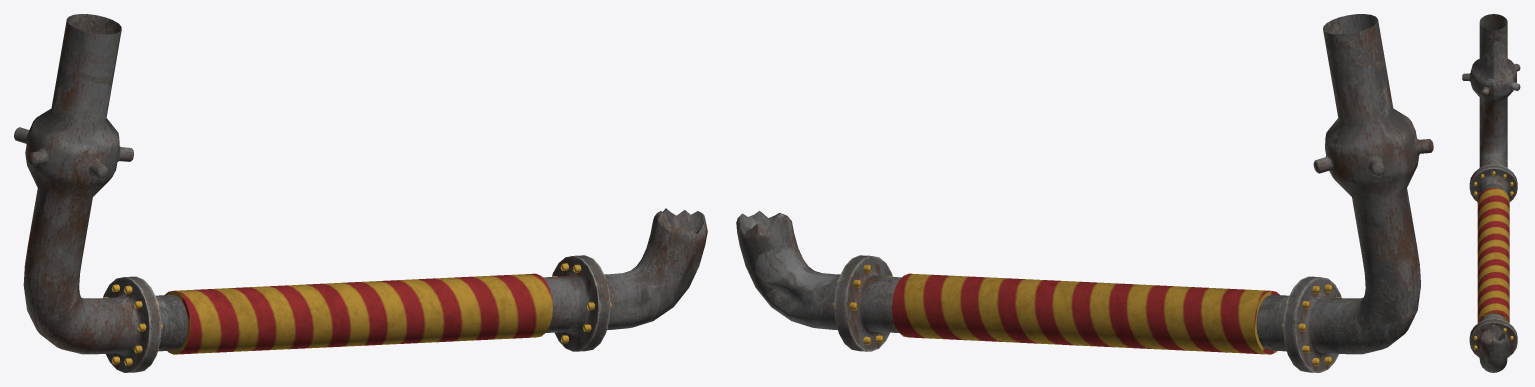
File: CAP_Grapple_02.fbx
3 renders of one model, left to right at view 1: azimuth 30°, elevation 25°; view 2: azimuth 150°, elevation 25°; view 3: azimuth 270°, elevation 25°, orthographic. The views are drawn at different scales.
Parts seen in each view (by area): view 1: pCylinder40; view 2: pCylinder40; view 3: pCylinder40.
Boxes of the visible parts, bbox=[...] form: pCylinder40: bbox=[14, 14, 707, 372]; pCylinder40: bbox=[736, 14, 1433, 372]; pCylinder40: bbox=[1462, 14, 1520, 372].
Bounding box in the file's own units: 3.71 × 2.31 × 0.544.
